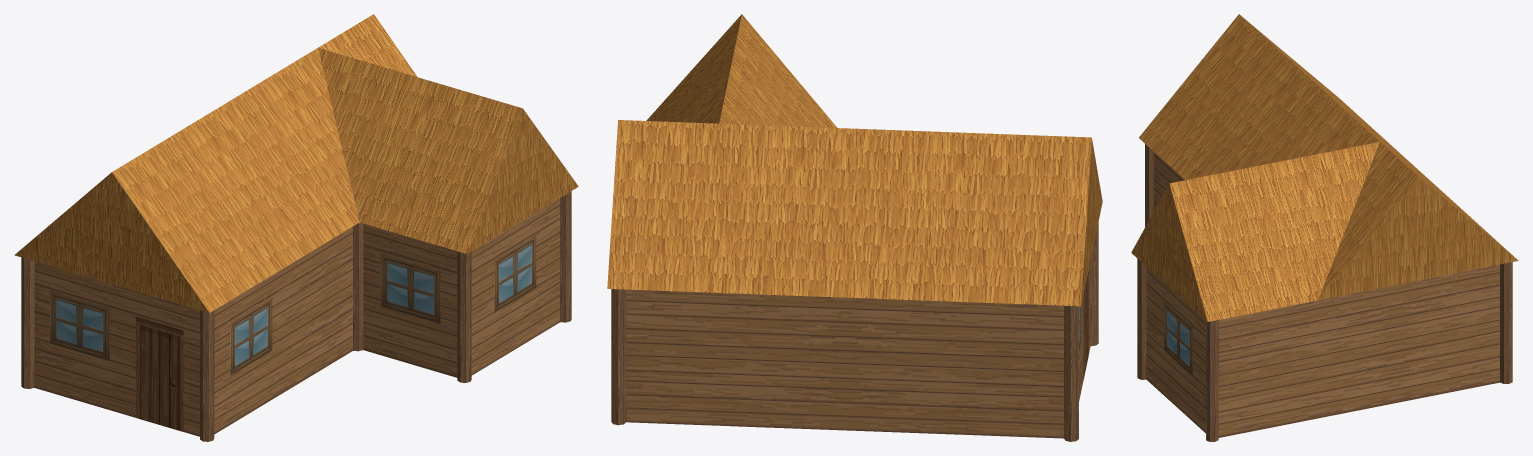
Rendered from Casa4.fbx.
The picture shows the model from 3 angles, left to right: view 1: azimuth 30°, elevation 25°; view 2: azimuth 150°, elevation 25°; view 3: azimuth 270°, elevation 25°; orthographic projection. The views are drawn at different scales.
Parts seen in each view (by area): view 1: defaultMaterial.001; view 2: defaultMaterial.001; view 3: defaultMaterial.001.
Boxes of the visible parts, x1,y1,x2,y2 form: defaultMaterial.001: (14,14,578,441); defaultMaterial.001: (607,14,1102,441); defaultMaterial.001: (1131,14,1518,441).
Bounding box in the file's own units: 7.48 × 3.53 × 5.48.
